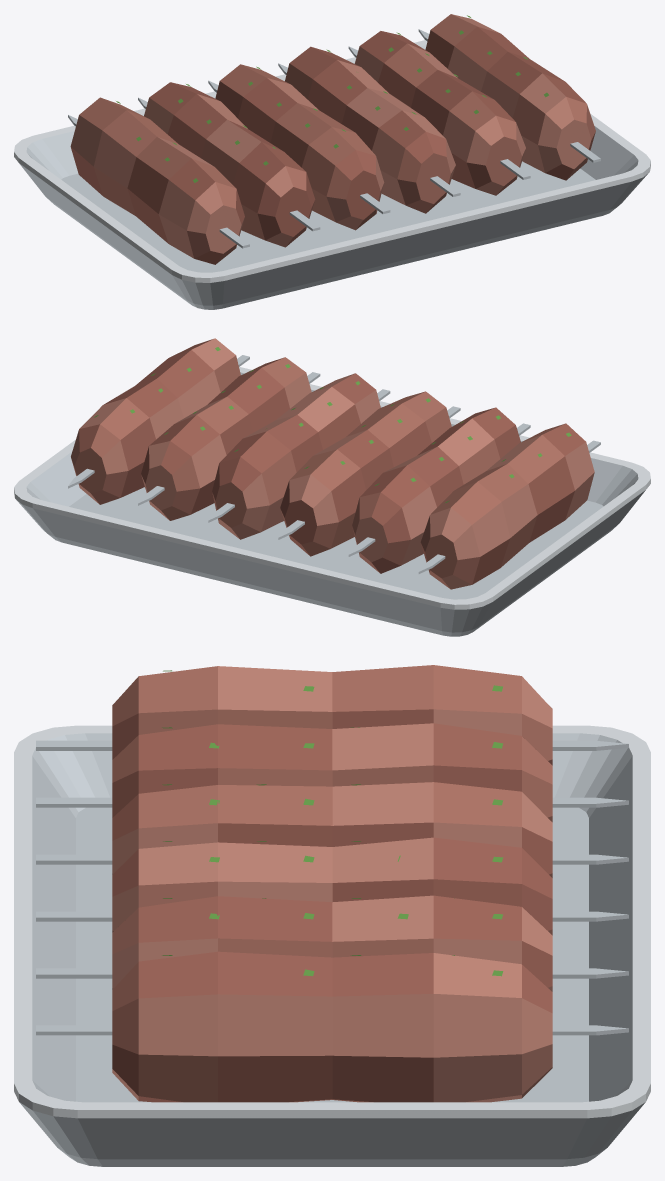
Rendered from kofta-tray.glb.
3 renders of one model, top to bottom at view 1: azimuth 30°, elevation 25°; view 2: azimuth 150°, elevation 25°; view 3: azimuth 270°, elevation 25°, orthographic. The views are drawn at different scales.
Parts seen in each view (by area): view 1: kofta-tray; view 2: kofta-tray; view 3: kofta-tray.
Part boxes in pixels (box(x1,y1,x2,y2)): kofta-tray: box(14, 14, 650, 309); kofta-tray: box(14, 338, 650, 636); kofta-tray: box(14, 665, 650, 1166).
Size of the model in its own units: 0.5 by 0.115 by 0.35.
